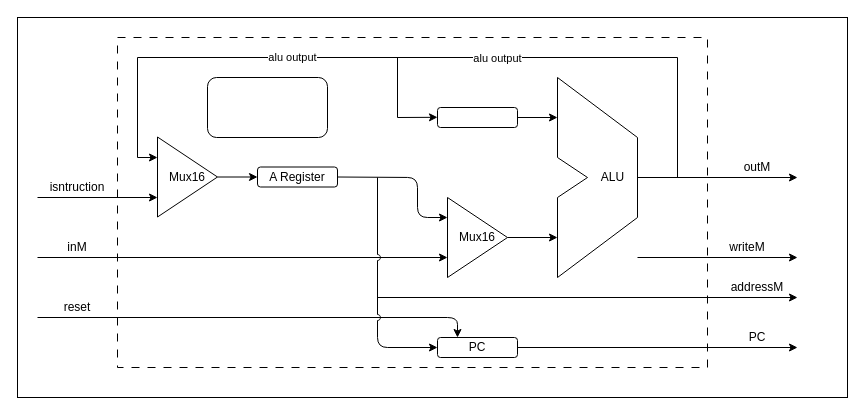
The diagram is 865 pixels wide and 415 high, and some of its shapes have lost their labels. Each missing label, with the centre of its shape:
"Control (State Machine)" belongs at [267,107].
"D Register" belongs at [477,117].
